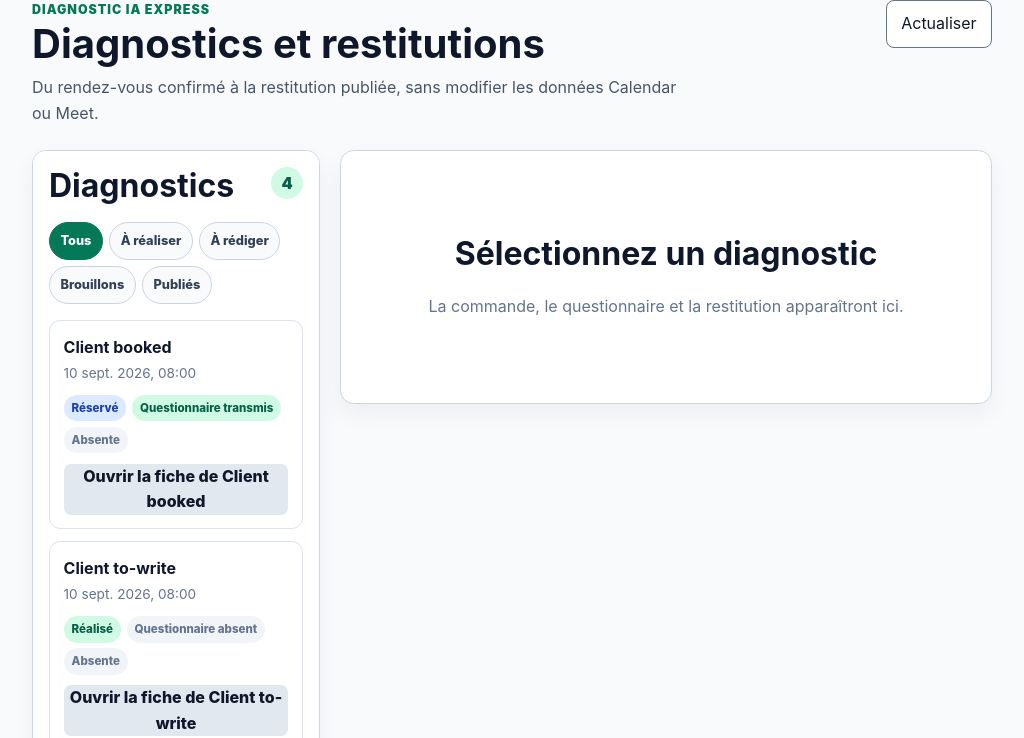
Test: administration des Diagnostics IA et restitutions › n’expose aucune suppression et affiche proprement une erreur RPC
The image size is (1024, 738).
Click the button "Ouvrir la fiche de Client booked".
click(176, 489)  # box [64,464,288,515]
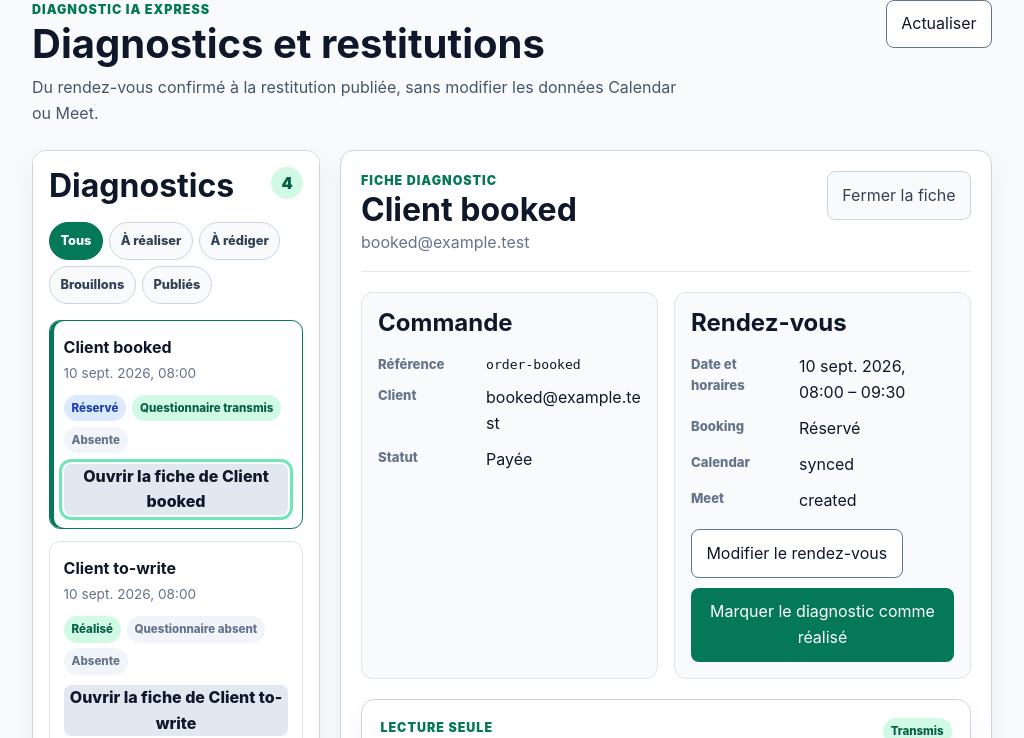
Result: the heading "Client booked" is shown at [361,191,577,230]
Click the button "Marquer le diagnostic comme réalisé".
click(822, 625)  # box [691,588,954,662]
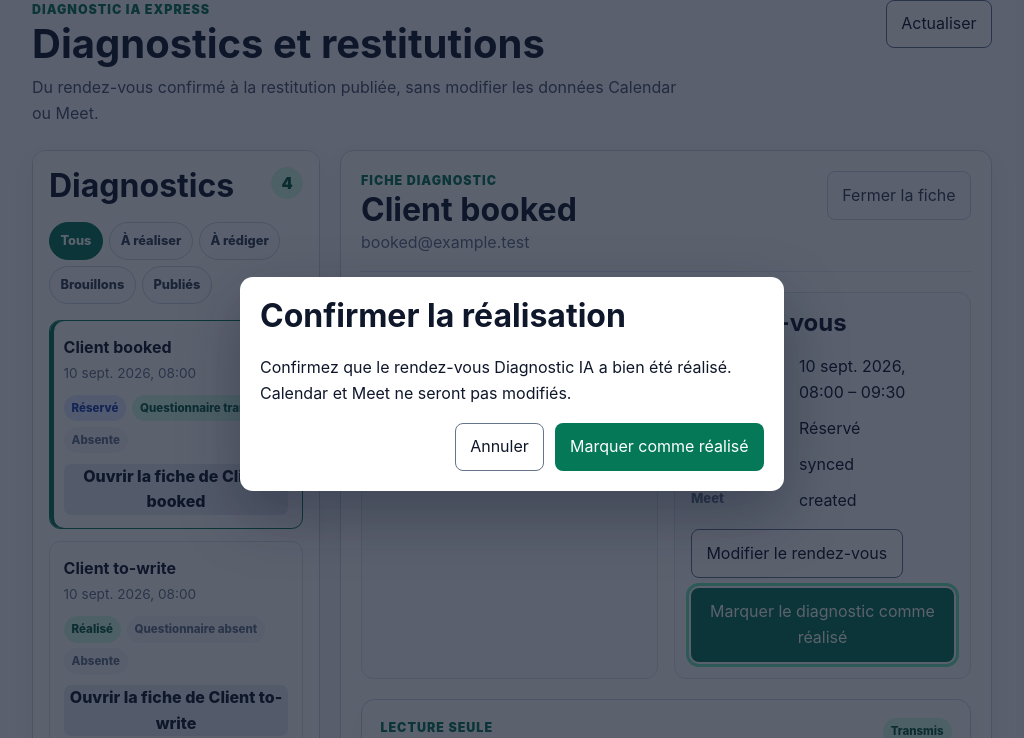
Click the button "Marquer comme réalisé".
click(659, 447)  # box [555,423,764,471]
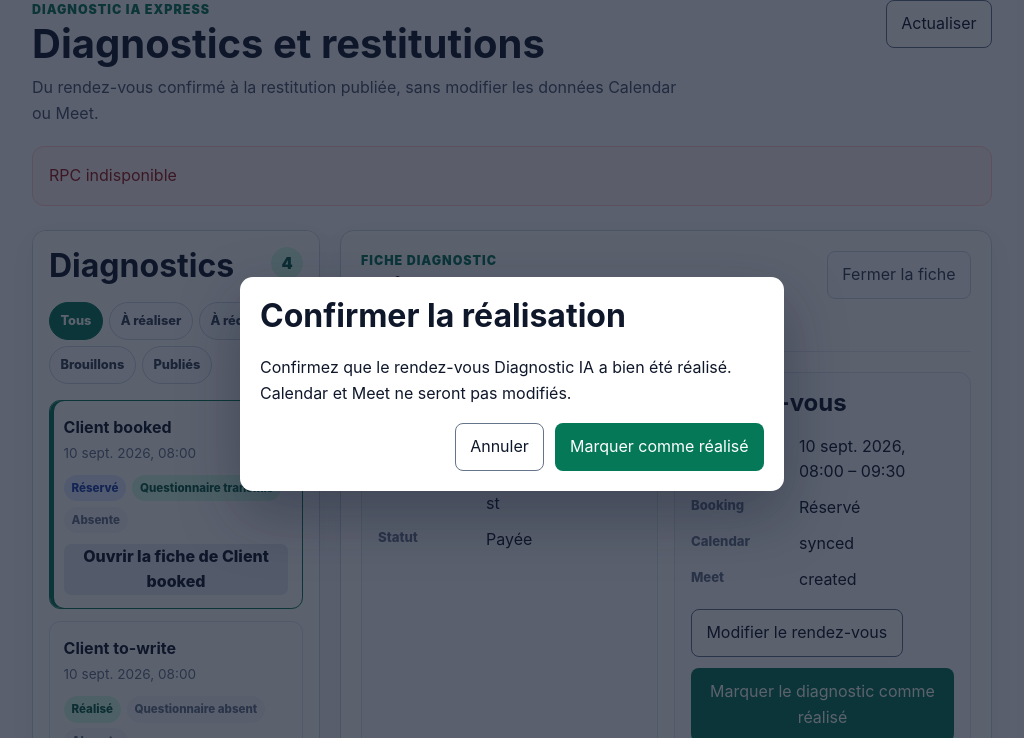
Result: the message reads "RPC indisponible" at [49,165,177,185]
